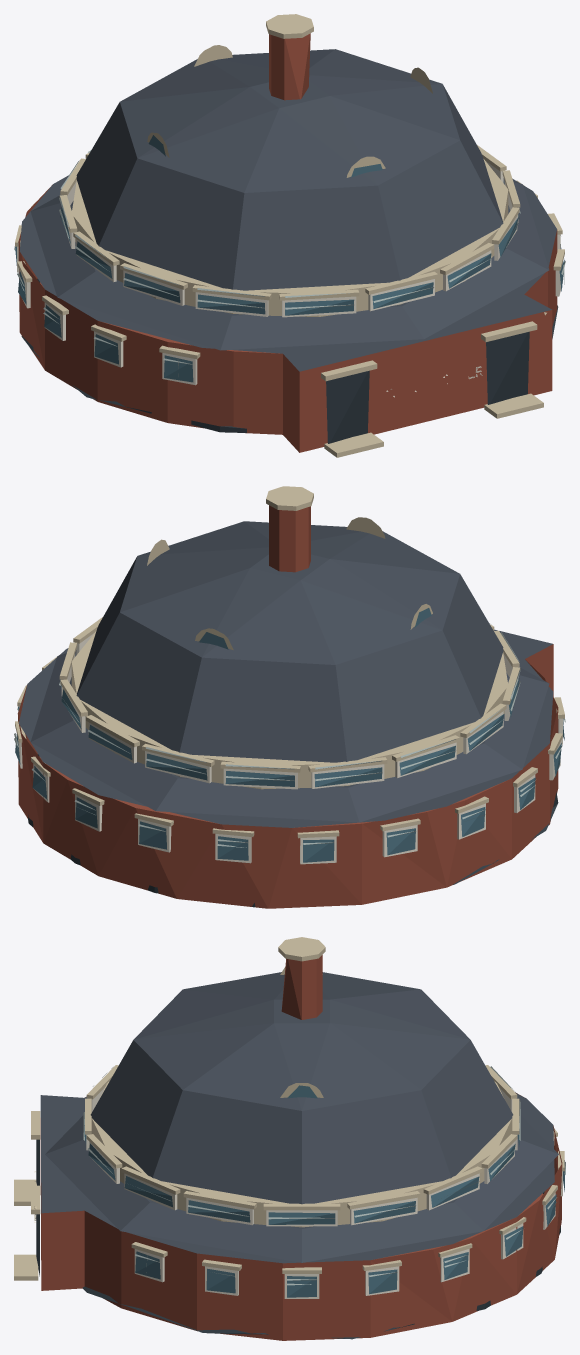
Rendered from badhuistheater.lod1.glb.
3 views of the same model, one above another, from view 1: azimuth 30°, elevation 25°; view 2: azimuth 150°, elevation 25°; view 3: azimuth 270°, elevation 25° (orthographic). The views are drawn at different scales.
Parts seen in each view (by area): view 1: badhuistheater; view 2: badhuistheater; view 3: badhuistheater.
Part boxes in pixels (box(x1,y1,x2,y2)): badhuistheater: box(14, 14, 565, 457); badhuistheater: box(14, 486, 565, 908); badhuistheater: box(14, 937, 565, 1340).
Size of the model in its own units: 19.41 by 11.58 by 20.3.
